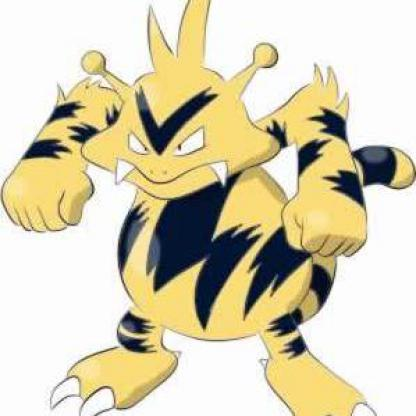Electabuzz: (12, 5, 416, 416)
